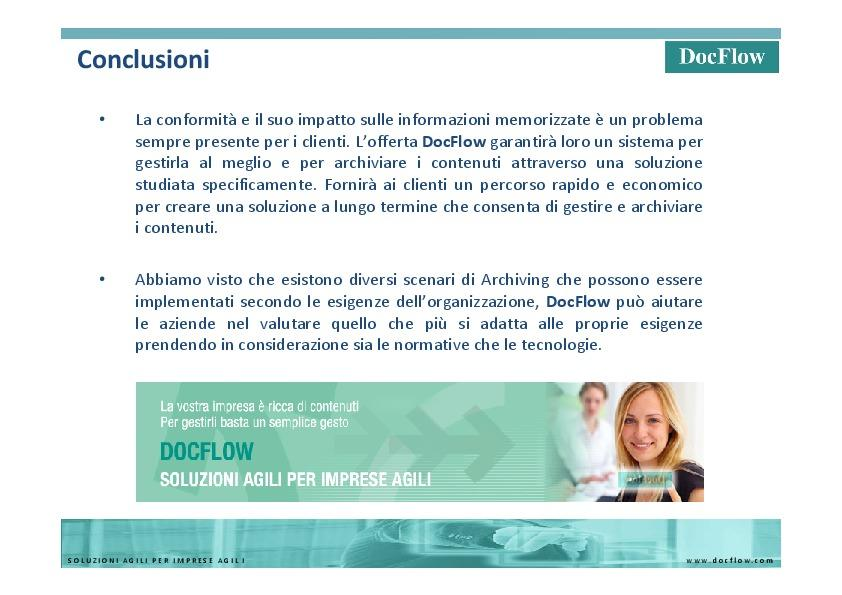title: (96, 100, 762, 508), (69, 42, 790, 84)
